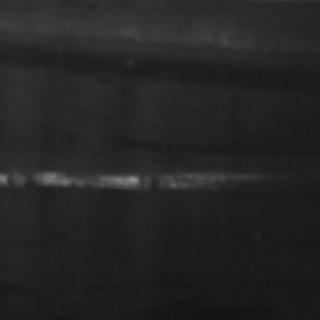scratches: (0, 164, 238, 192)
